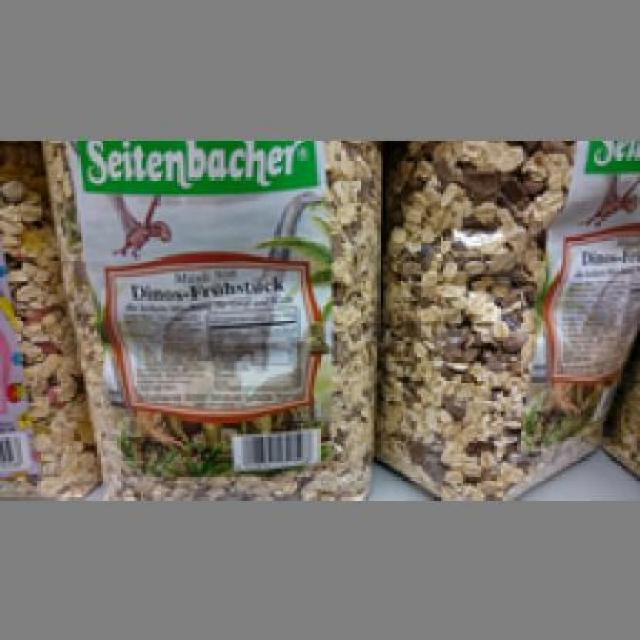Cereal: (40, 137, 380, 494), (380, 137, 637, 500)
